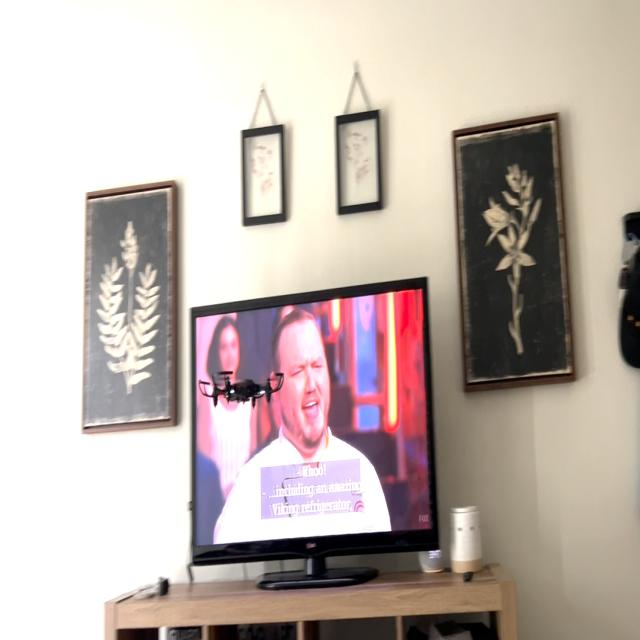drone: (194, 352, 293, 418)
